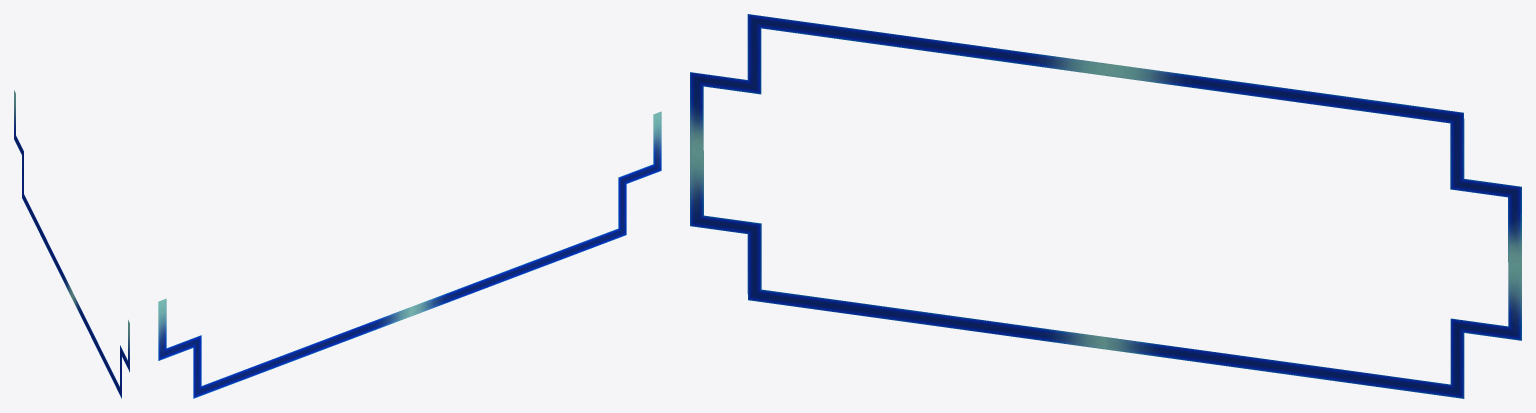
File: puzzleboard_inner_frame.glb
3 views of the same model, side by side, from view 1: azimuth 30°, elevation 25°; view 2: azimuth 150°, elevation 25°; view 3: azimuth 270°, elevation 25° (orthographic). The views are drawn at different scales.
Parts seen in each view (by area): view 1: puzzleboard_inner_frameShape:3, puzzleboard_inner_frameShape:0; view 2: puzzleboard_inner_frameShape:0, puzzleboard_inner_frameShape:3; view 3: puzzleboard_inner_frameShape:0, puzzleboard_inner_frameShape:2, puzzleboard_inner_frameShape:1, puzzleboard_inner_frameShape:3.
Boxes of the visible parts, x1,y1,x2,y2 form: puzzleboard_inner_frameShape:3: [72, 291, 129, 398]; puzzleboard_inner_frameShape:0: [14, 90, 71, 297]; puzzleboard_inner_frameShape:0: [158, 298, 409, 398]; puzzleboard_inner_frameShape:3: [410, 111, 661, 316]; puzzleboard_inner_frameShape:0: [1106, 262, 1521, 398]; puzzleboard_inner_frameShape:2: [690, 14, 1105, 150]; puzzleboard_inner_frameShape:1: [1106, 63, 1521, 263]; puzzleboard_inner_frameShape:3: [690, 149, 1105, 349].
Size of the model in its own units: 219 by 254 by 670.
Materials: 1 (1 with a texture image).
